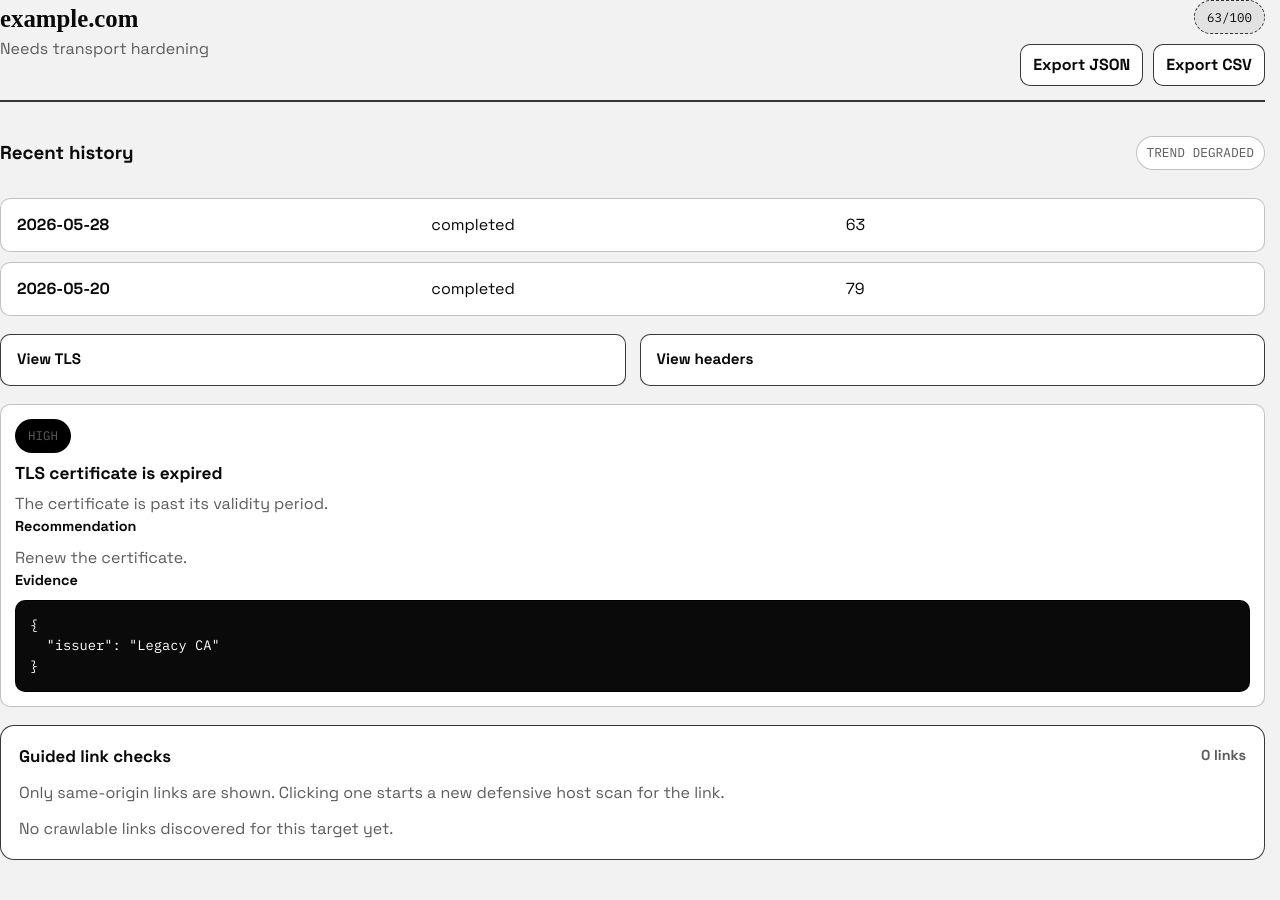
Test case: ReportDetail closes modal via close button
The width and height of the screenshot is (1280, 900).
Click the button "View TLS" at (49, 359), box [0,334,626,386]
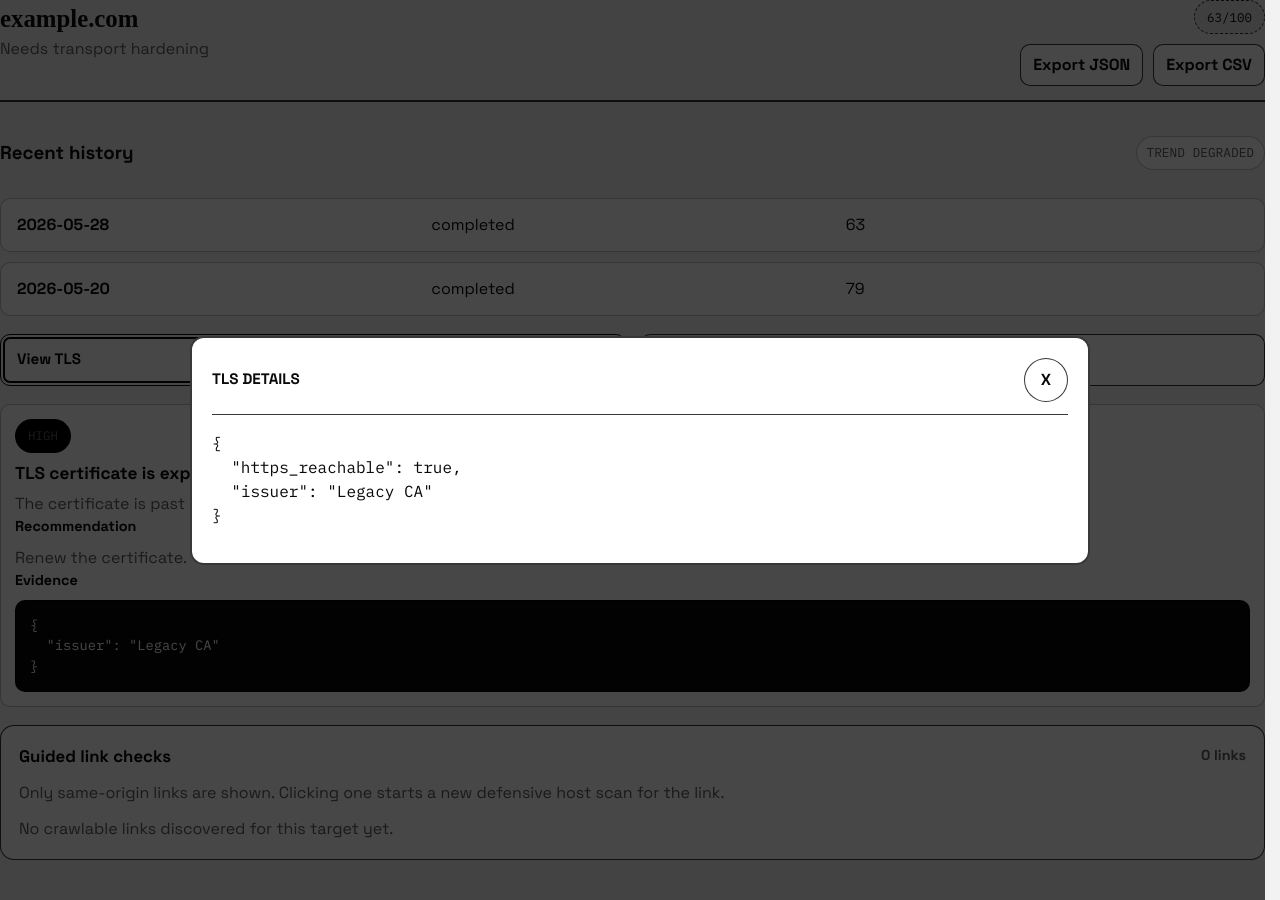
Expected: the dialog "TLS details" is shown, [190,336,1090,564]
Click the button named "close details" at (1046, 380), box [1024,358,1068,402]
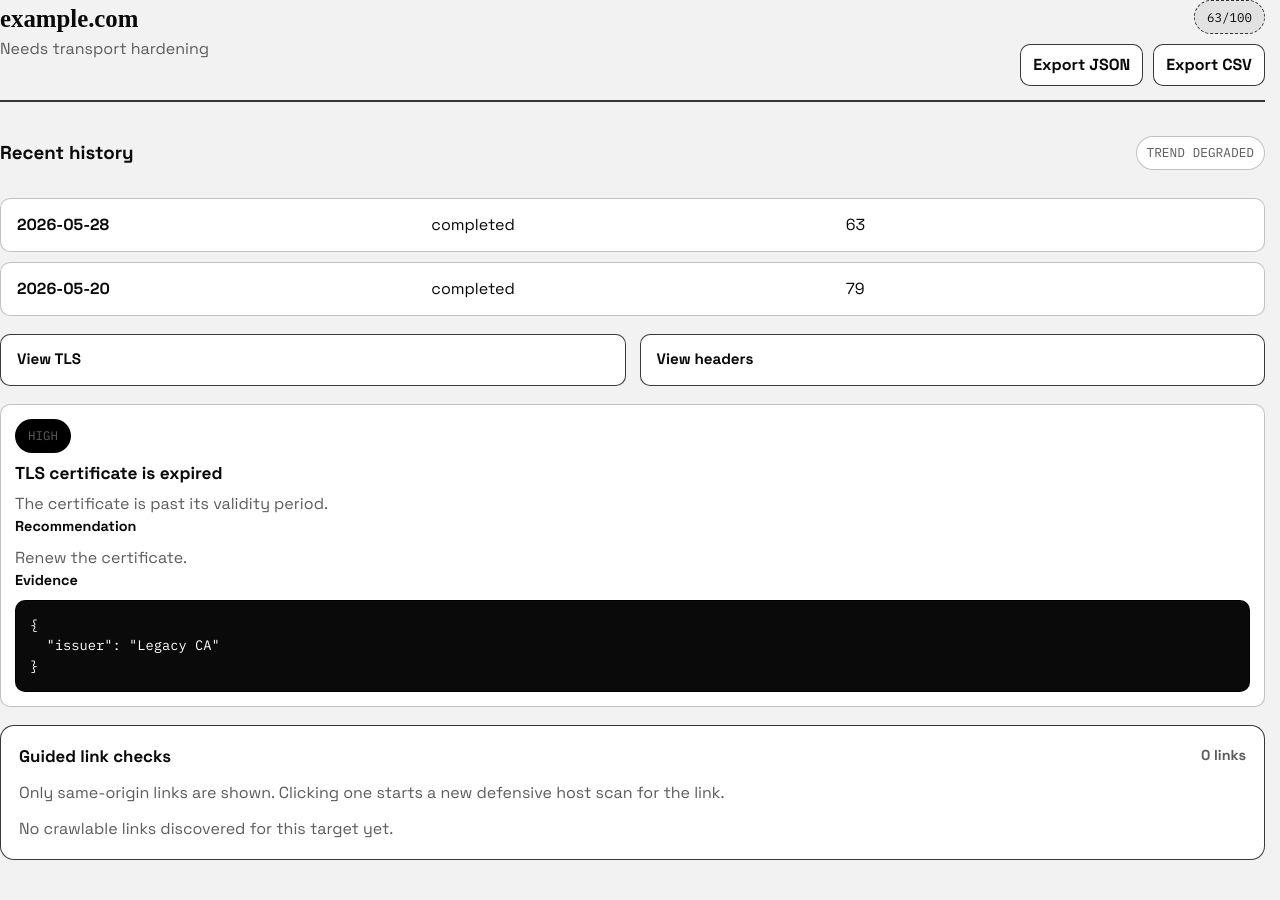
Expected: the heading "TLS details" is gone
